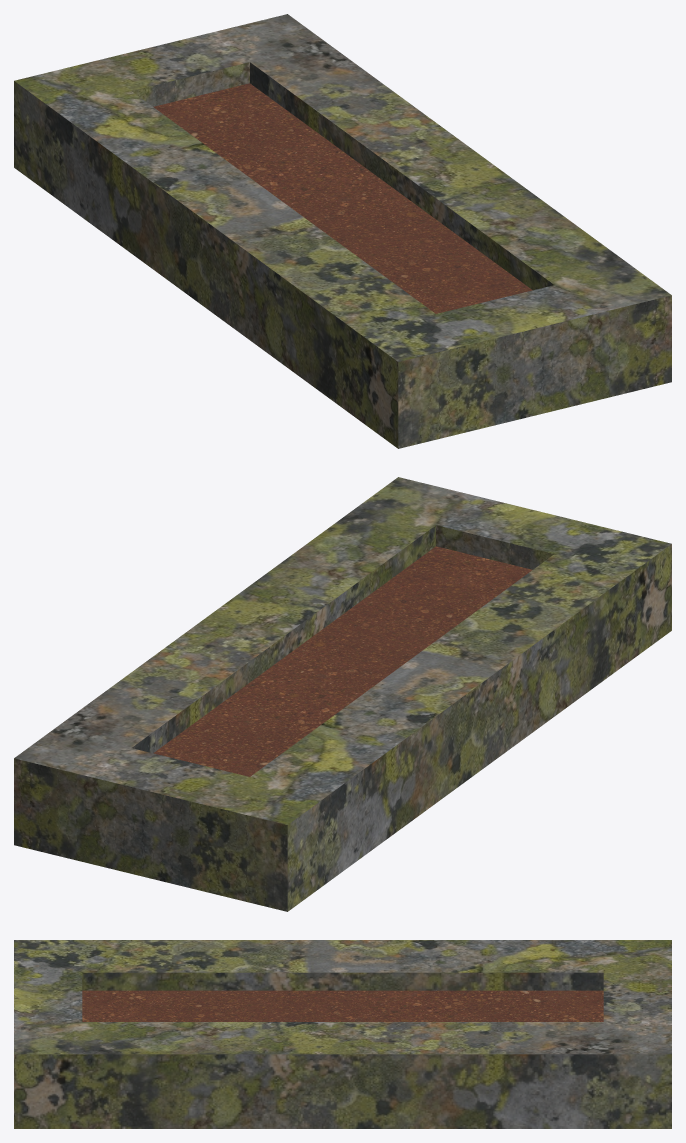
The model's file is BatuNis8.fbx.
3 views of the same model, one above another, from view 1: azimuth 30°, elevation 25°; view 2: azimuth 150°, elevation 25°; view 3: azimuth 270°, elevation 25° (orthographic). The views are drawn at different scales.
Parts seen in each view (by area): view 1: Cube; view 2: Cube; view 3: Cube.
Part boxes in pixels (x1,y1,x2,y2): Cube: (14, 14, 671, 448); Cube: (14, 477, 671, 911); Cube: (14, 940, 671, 1128).
Bounding box in the file's own units: 553 × 168 × 1346.
